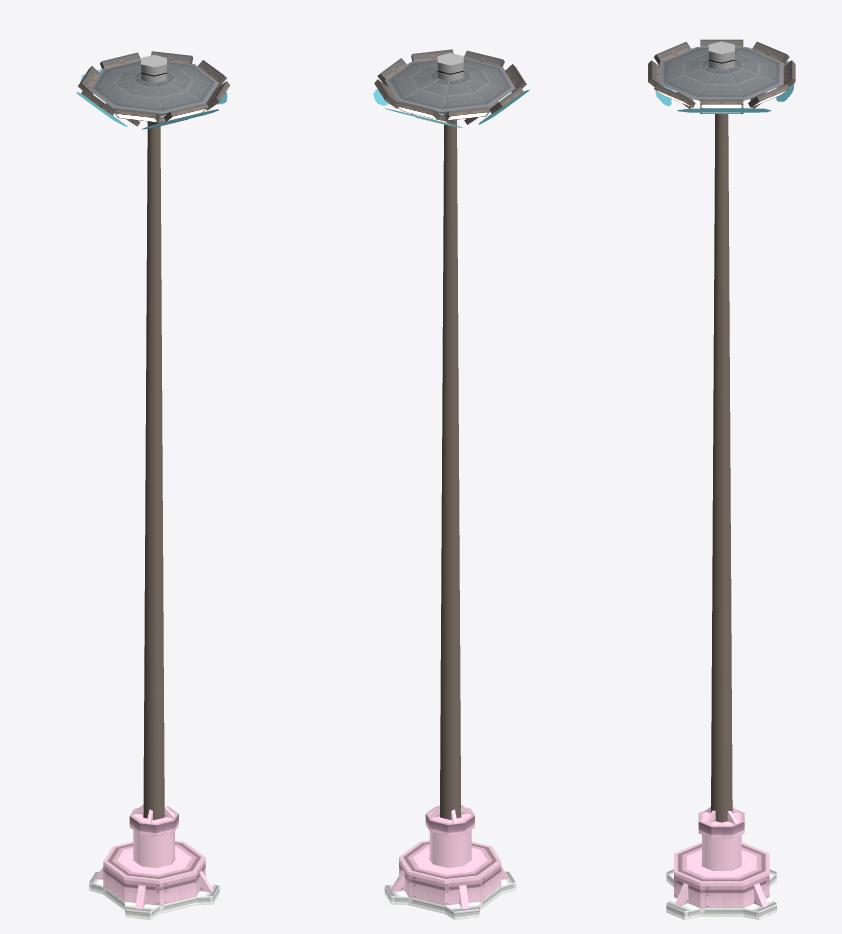
Rendered from pro_floodlight_overhead.fbx.
3 views of the same model, side by side, from view 1: azimuth 30°, elevation 25°; view 2: azimuth 150°, elevation 25°; view 3: azimuth 270°, elevation 25° (orthographic). The views are drawn at different scales.
Visible parts, largest first — view 1: pro_floodlight_overhead, support_ground, support_pylon, support_road; view 2: pro_floodlight_overhead, support_ground, support_pylon, support_road; view 3: pro_floodlight_overhead, support_ground, support_pylon, support_road, light_bloom_night.
Boxes of the visible parts, x1=… form: pro_floodlight_overhead: x1=78, y1=51, x2=229, y2=819; support_ground: x1=89, y1=840, x2=219, y2=919; support_pylon: x1=133, y1=830, x2=174, y2=867; support_road: x1=129, y1=804, x2=178, y2=836; pro_floodlight_overhead: x1=374, y1=49, x2=526, y2=819; support_ground: x1=384, y1=840, x2=515, y2=919; support_pylon: x1=429, y1=830, x2=471, y2=867; support_road: x1=425, y1=804, x2=474, y2=836; pro_floodlight_overhead: x1=648, y1=39, x2=795, y2=822; support_ground: x1=666, y1=842, x2=776, y2=919; support_pylon: x1=702, y1=834, x2=741, y2=870; support_road: x1=698, y1=806, x2=744, y2=838; light_bloom_night: x1=655, y1=47, x2=794, y2=112.
Bounding box in the file's own units: 910 × 4184 × 933.
